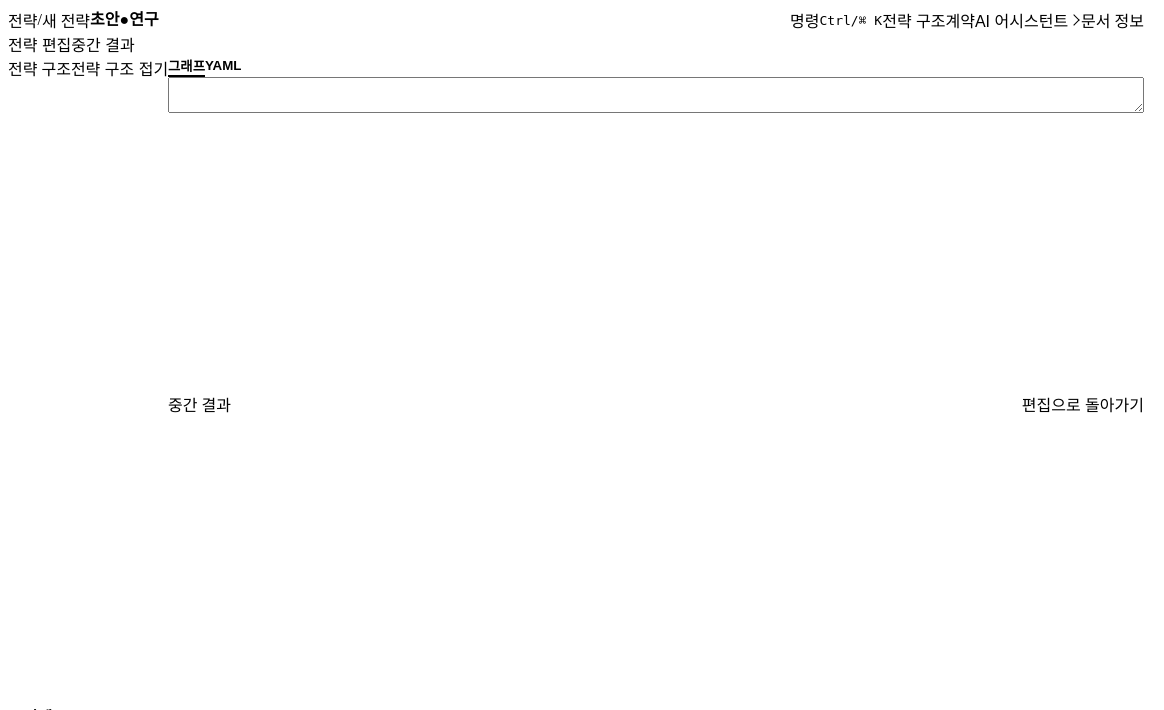
Scenario: StrategyIde assistant 슬롯 › 좁은 화면에서는 계약 서랍과 AI 창 중 나중에 연 쪽만 남는다(같은 자리를 덮는다, 리뷰 6)
The width and height of the screenshot is (1164, 710).
Click the button "계약": (960, 20) [946,8,975,32]
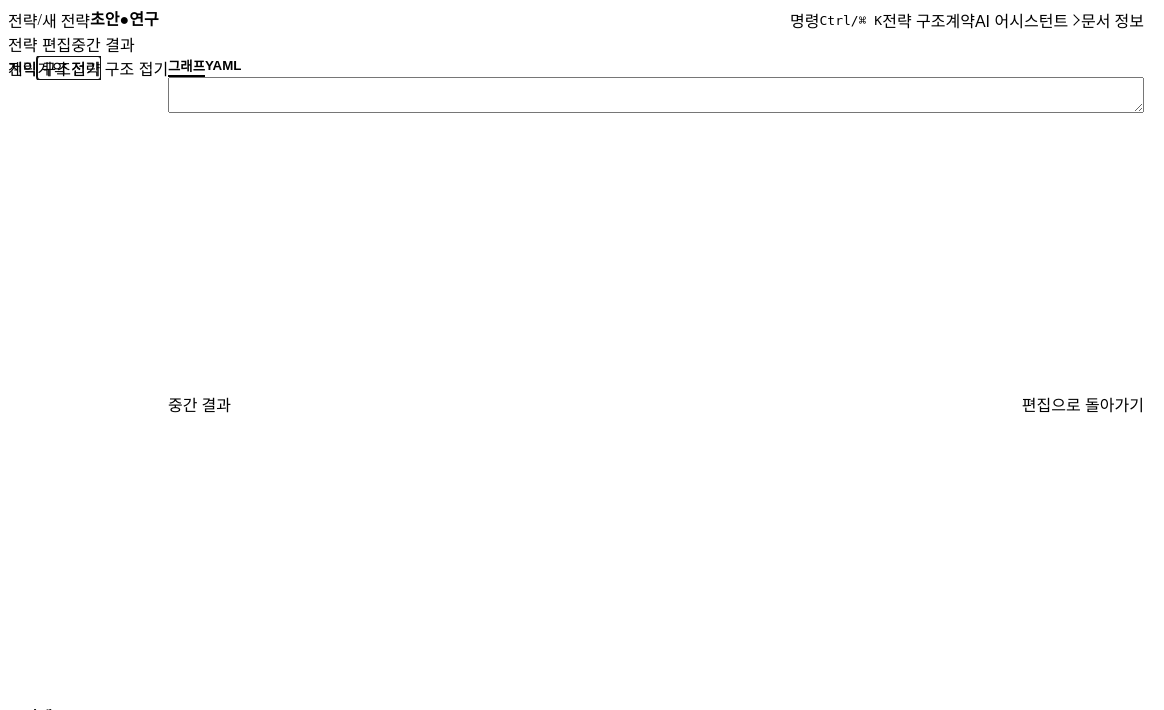
Press a
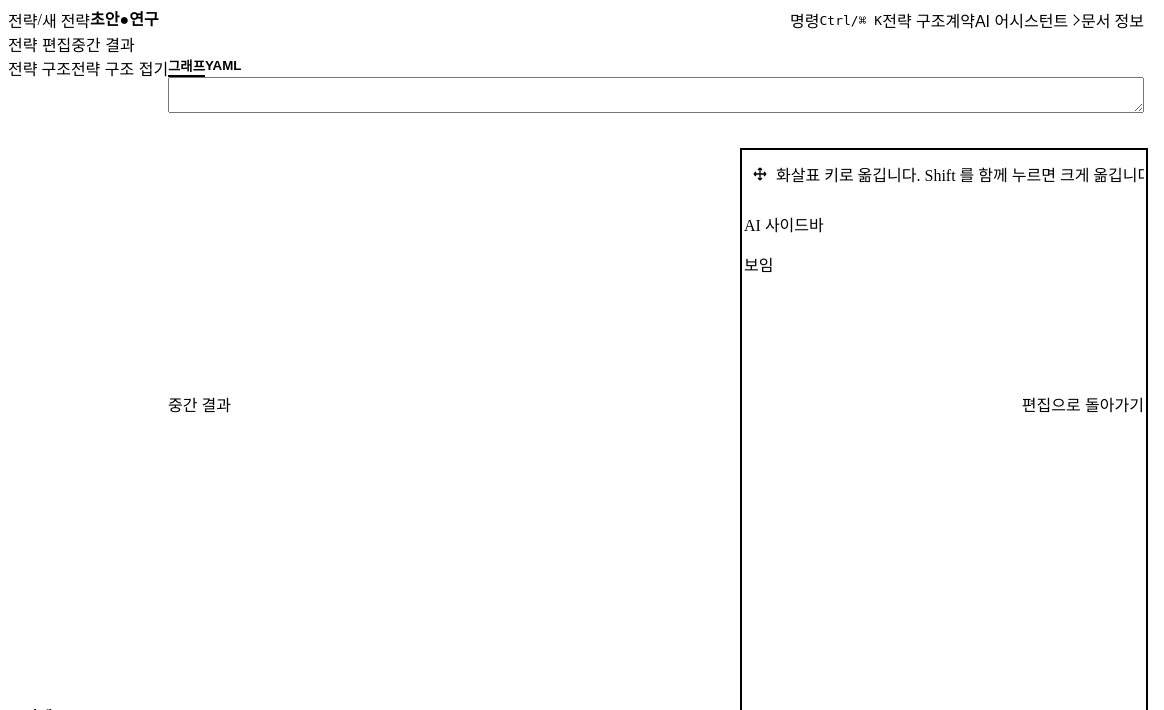
Click the button "계약": (960, 20) [946,8,975,32]
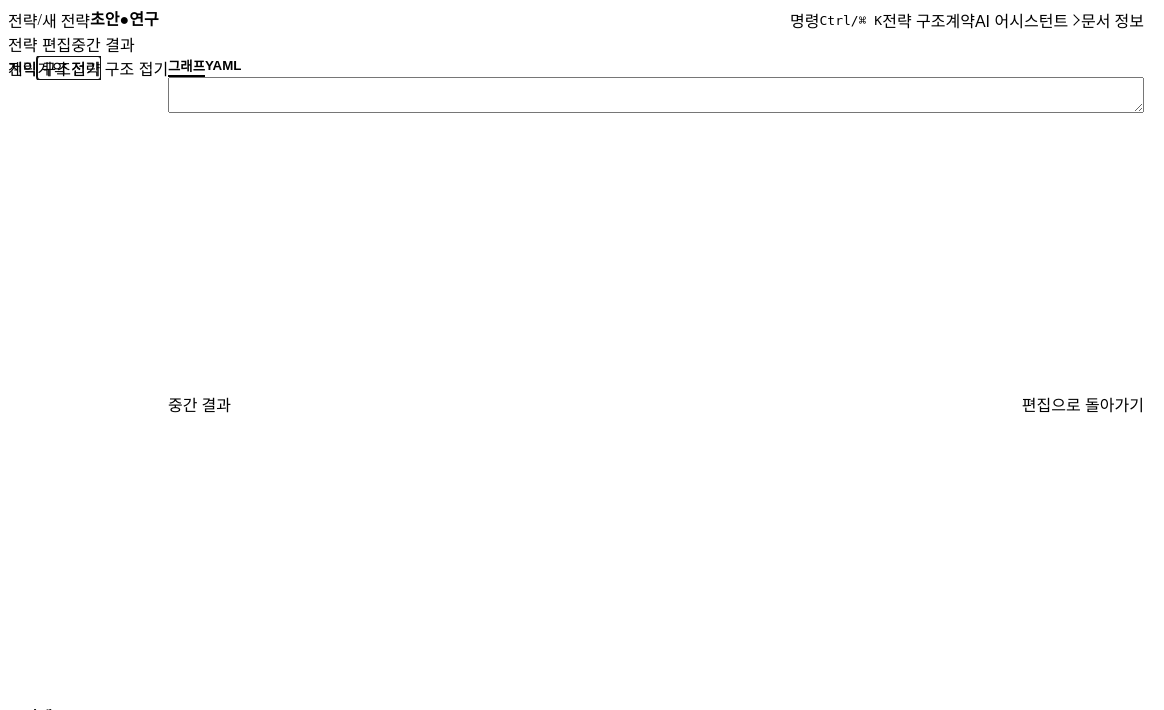
Check: the element "계약" is shown, box [8,56,101,80]
